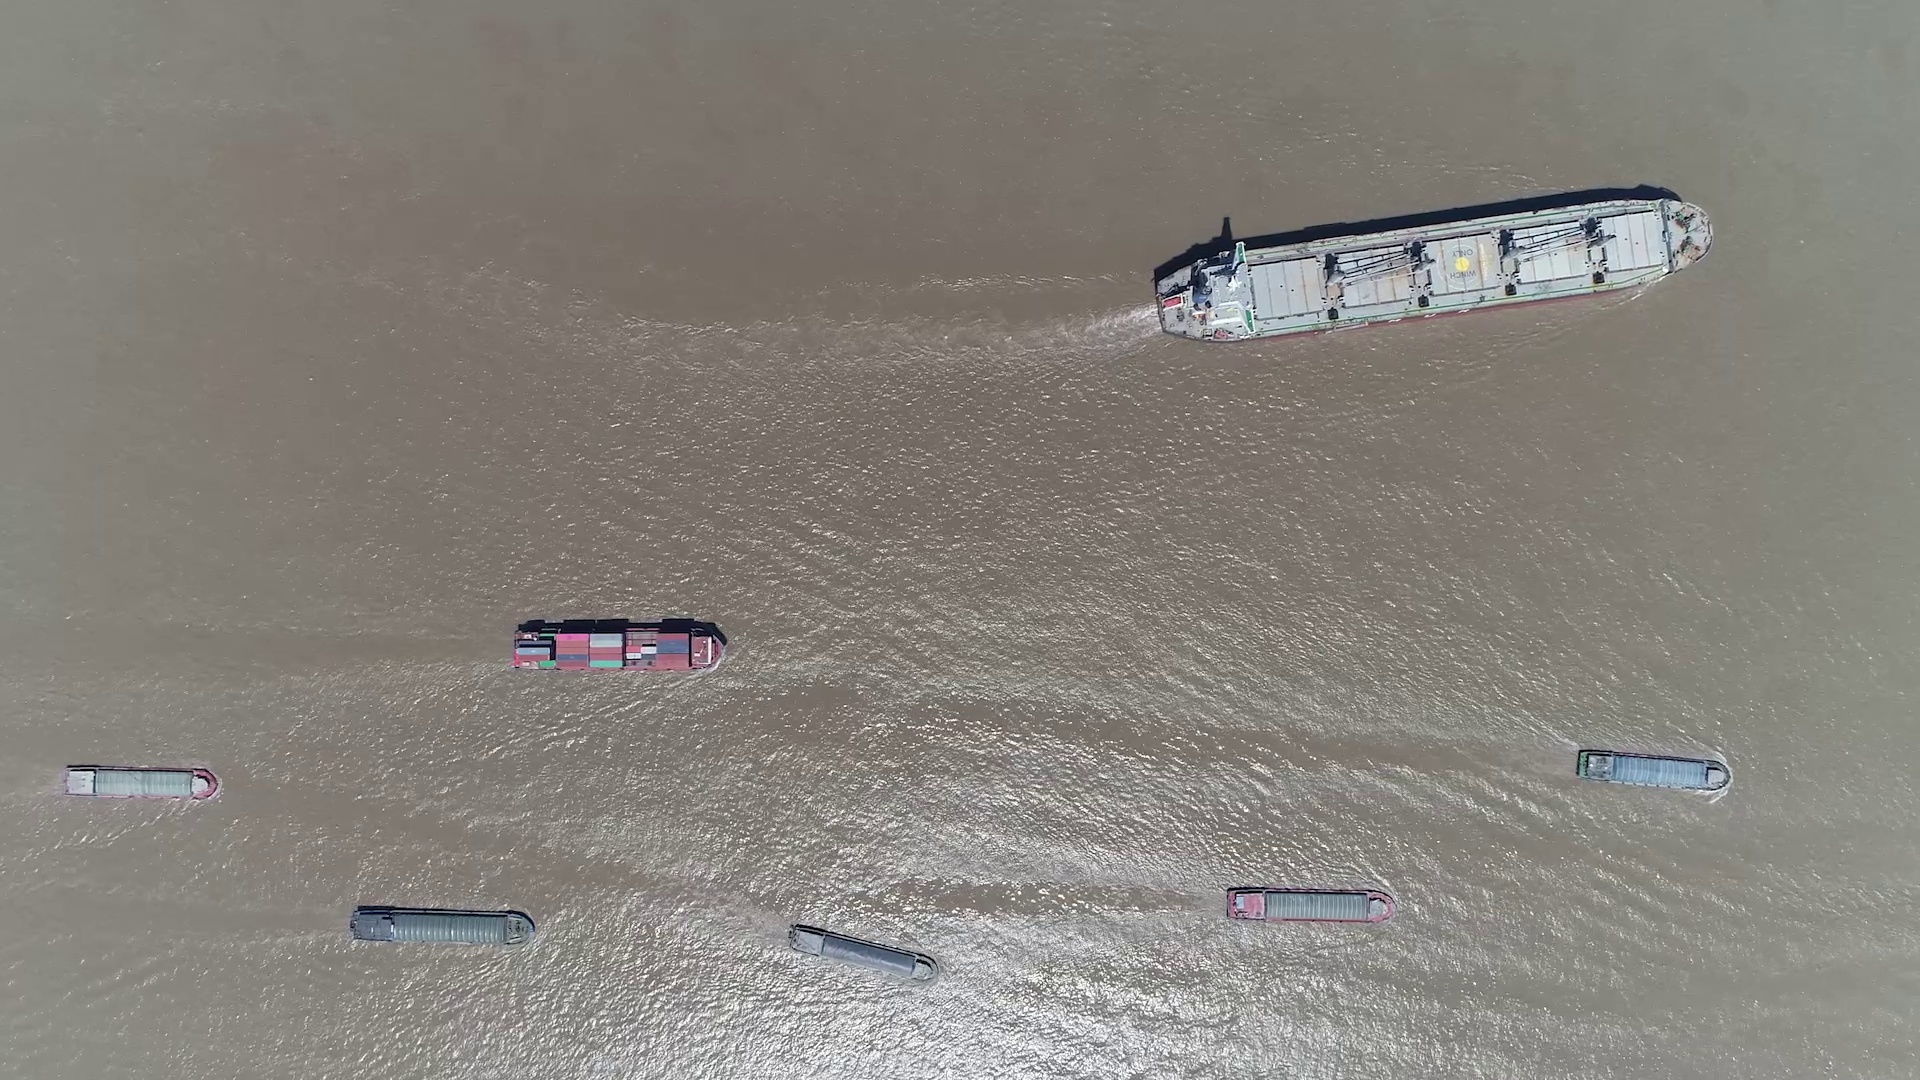ship: (1149, 199, 1714, 342), (512, 624, 727, 671), (786, 924, 938, 982), (351, 905, 534, 945), (1576, 749, 1730, 793), (1225, 887, 1394, 924), (62, 765, 218, 800)
